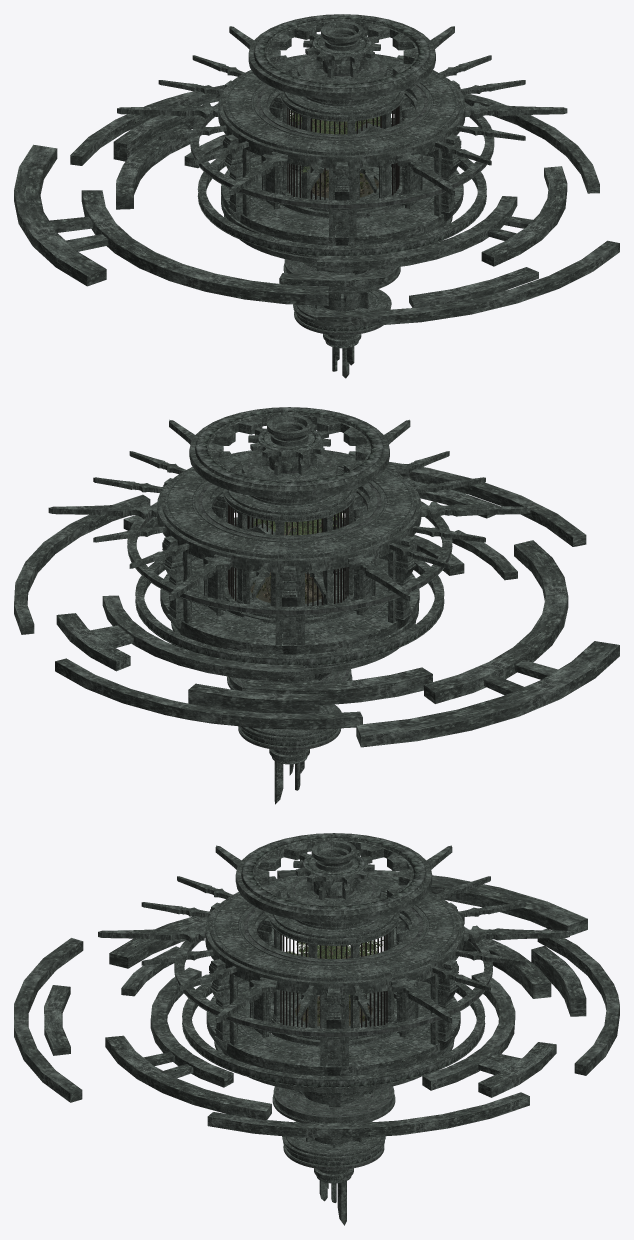
3 renders of one model, top to bottom at view 1: azimuth 30°, elevation 25°; view 2: azimuth 150°, elevation 25°; view 3: azimuth 270°, elevation 25°, orthographic. The views are drawn at different scales.
Parts seen in each view (by area): view 1: mg_9, mg_9_miniaturegarden_tree; view 2: mg_9, mg_9_miniaturegarden_tree; view 3: mg_9, mg_9_miniaturegarden_tree.
Part boxes in pixels (box(x1,y1,x2,y2)): mg_9: box(14, 14, 619, 378); mg_9_miniaturegarden_tree: box(290, 110, 380, 192); mg_9: box(14, 407, 619, 804); mg_9_miniaturegarden_tree: box(250, 512, 344, 597); mg_9: box(14, 833, 619, 1225); mg_9_miniaturegarden_tree: box(287, 938, 383, 1014).
Bounding box in the file's own units: 11977 × 7996 × 11814.
